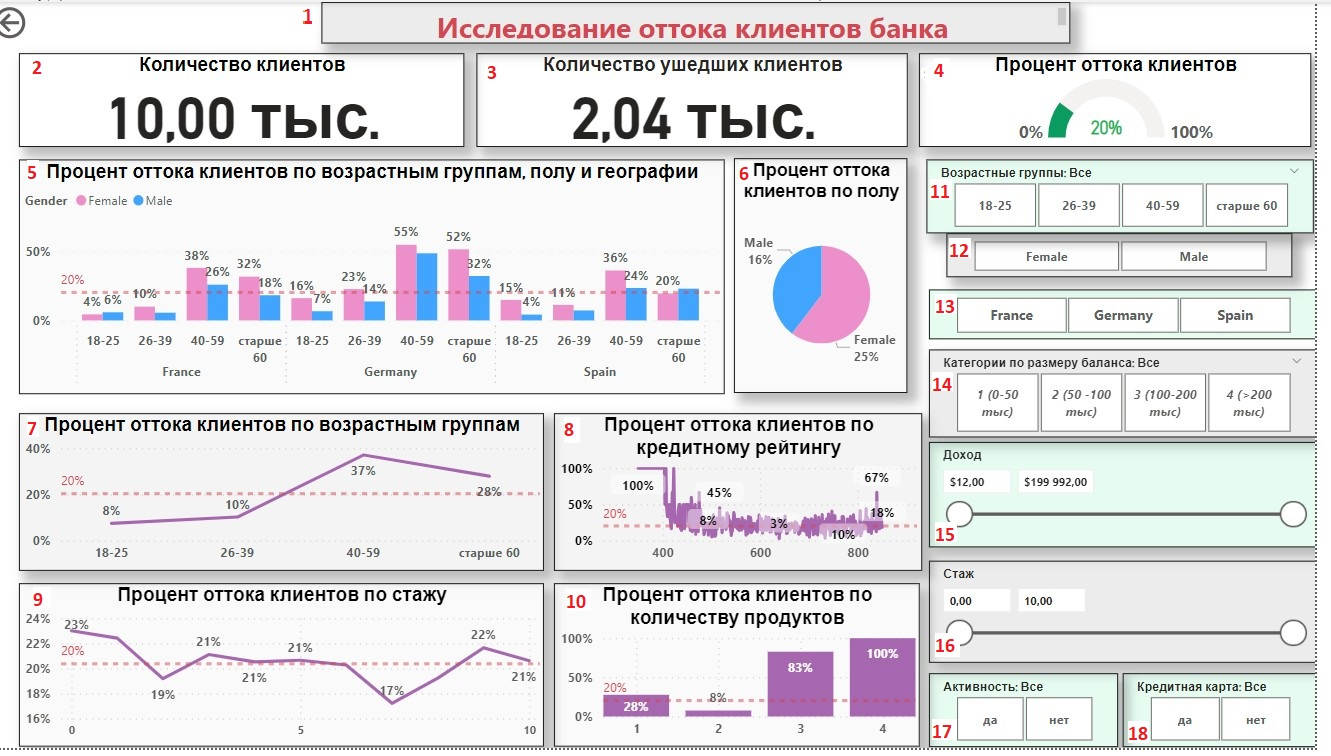

The page's visual inventory and layout, read from the dashboard file:
{"tool":"powerbi","page":{"name":"Исследование оттока клиентов банка","canvas":[1280,720],"ordinal":0},"visuals":[{"type":"card","title":"Количество клиентов","fields":{"Values":["churn.Количество клиентов"]},"box":[0,59.1,401.6,80.8],"z":0},{"type":"card","title":"Количество ушедших клиентов","fields":{"Values":["Таблица мер.Количество ушедших клиентов"]},"box":[419.7,59.1,423.3,80.8],"z":1000},{"type":"gauge","fields":{"Y":["Таблица мер.Процент оттока клиентов"]},"box":[852.7,59.1,423.3,80.8],"z":2000},{"type":"slicer","fields":{"Values":["churn.Gender"]},"box":[0,234,401.6,43.4],"z":3000},{"type":"slicer","fields":{"Values":["churn.HasCrCard"]},"box":[211.1,648.8,190.6,71.2],"z":4000},{"type":"slicer","fields":{"Values":["churn.IsActiveMember"]},"box":[0,648.8,201.4,71.2],"z":5000},{"type":"slicer","fields":{"Values":["churn.Geography"]},"box":[0,285.8,401.6,47],"z":6000},{"type":"clusteredColumnChart","title":"Процент оттока клиентов по возрастным группам, полу и географии","fields":{"Category":["churn.Geography","churn.Возрастные группы"],"Series":["churn.Gender"],"Y":["Таблица мер.Процент оттока клиентов"]},"box":[419.7,152,674.2,225.5],"z":7000},{"type":"slicer","fields":{"Values":["churn.Возрастные группы"]},"box":[0,152,401.6,73.6],"z":8000},{"type":"slicer","fields":{"Values":["churn.Tenure"]},"box":[0,535.5,401.6,104.9],"z":9000},{"type":"lineChart","title":"Процент оттока клиентов по возрастным группам","fields":{"Y":["Таблица мер.Процент оттока клиентов"],"Category":["churn.Возрастные группы"]},"box":[419.9,384.2,488.5,152.3],"z":10000},{"type":"lineChart","title":"Процент оттока клиентов по кредитному рейтингу","fields":{"Y":["Таблица мер.Процент оттока клиентов"],"Category":["churn.CreditScore"]},"box":[923.5,384.2,356.8,152.3],"z":11000},{"type":"lineChart","title":"Процент оттока клиентов по стажу","fields":{"Y":["Таблица мер.Процент оттока клиентов"],"Category":["churn.Tenure"]},"box":[419.9,551.6,488.5,168.8],"z":12000},{"type":"columnChart","title":"Процент оттока клиентов по количеству продуктов","fields":{"Category":["churn.NumOfProducts"],"Y":["Таблица мер.Процент оттока клиентов"]},"box":[923.5,551.6,352.7,168.8],"z":13000},{"type":"slicer","fields":{"Values":["churn.Категории по размеру баланса"]},"box":[0,335.3,401.6,85.6],"z":15000},{"type":"slicer","fields":{"Values":["churn.EstimatedSalary"]},"box":[0,420.9,401.6,108.5],"z":16000},{"type":"pieChart","title":"Процент оттока клиентов по полу","fields":{"Y":["Таблица мер.Процент оттока клиентов"],"Category":["churn.Gender"]},"box":[1108.3,152,167.6,226.7],"z":17000},{"type":"textbox","box":[344.9,8.4,703.1,41],"z":18000}]}

Visuals, with their boxes on the page's 1280x720 design canvas (x1, y1, x2, y2). These are canvas units, not pixel positions in the 1331x756 screenshot, which may show the page scaled, cropped or inside an application window:
"Количество клиентов" card: 0:59:402:140
"Количество ушедших клиентов" card: 420:59:843:140
gauge - Таблица мер.Процент оттока клиентов: 853:59:1276:140
slicer - churn.Gender: 0:234:402:277
slicer - churn.HasCrCard: 211:649:402:720
slicer - churn.IsActiveMember: 0:649:201:720
slicer - churn.Geography: 0:286:402:333
"Процент оттока клиентов по возрастным группам, полу и географии" clusteredColumnChart: 420:152:1094:378
slicer - churn.Возрастные группы: 0:152:402:226
slicer - churn.Tenure: 0:536:402:640
"Процент оттока клиентов по возрастным группам" lineChart: 420:384:908:536
"Процент оттока клиентов по кредитному рейтингу" lineChart: 924:384:1280:536
"Процент оттока клиентов по стажу" lineChart: 420:552:908:720
"Процент оттока клиентов по количеству продуктов" columnChart: 924:552:1276:720
slicer - churn.Категории по размеру баланса: 0:335:402:421
slicer - churn.EstimatedSalary: 0:421:402:529
"Процент оттока клиентов по полу" pieChart: 1108:152:1276:379
textbox: 345:8:1048:49
